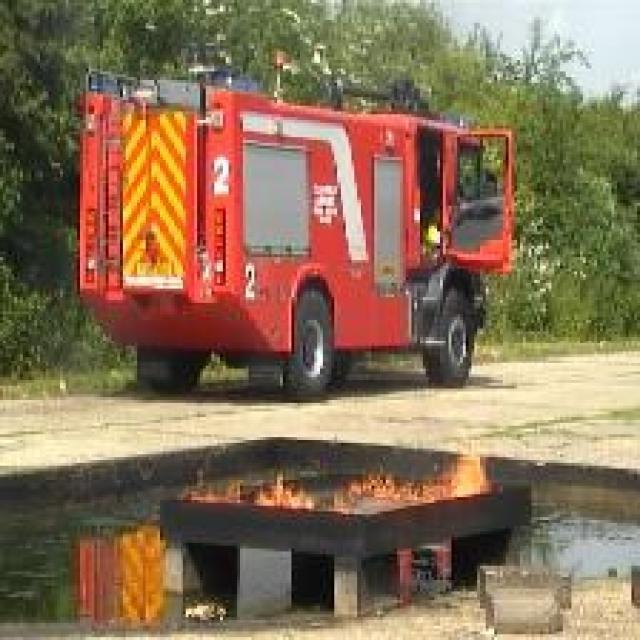Fire: (326, 444, 492, 512), (253, 472, 316, 512), (174, 474, 249, 506)
